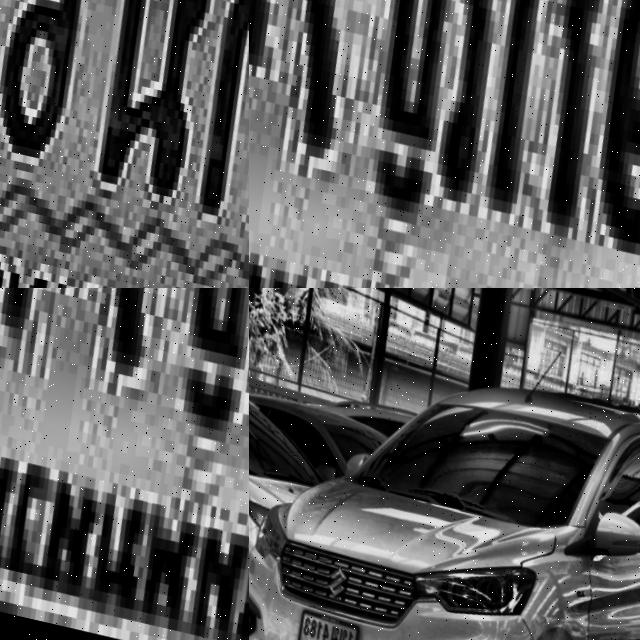license-plate: (249, 0, 640, 288), (0, 288, 249, 640), (0, 0, 249, 288), (276, 605, 357, 640)
